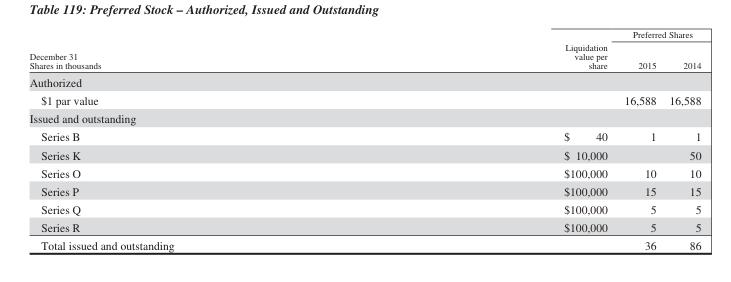table: (28, 28, 700, 251)
table column: (28, 28, 368, 251), (368, 28, 615, 251), (615, 28, 662, 251), (662, 28, 700, 251)
table column header: (28, 28, 700, 72)
table projected row header: (28, 72, 700, 91), (28, 109, 700, 127)
table row: (28, 49, 700, 72), (28, 28, 700, 49), (28, 72, 700, 91), (28, 91, 700, 109), (28, 109, 700, 127), (28, 127, 700, 145), (28, 145, 700, 163), (28, 163, 700, 181), (28, 181, 700, 199), (28, 199, 700, 217), (28, 217, 700, 235), (28, 235, 700, 251)
table spanning cell: (28, 28, 368, 72), (368, 28, 615, 72), (615, 28, 700, 49)
